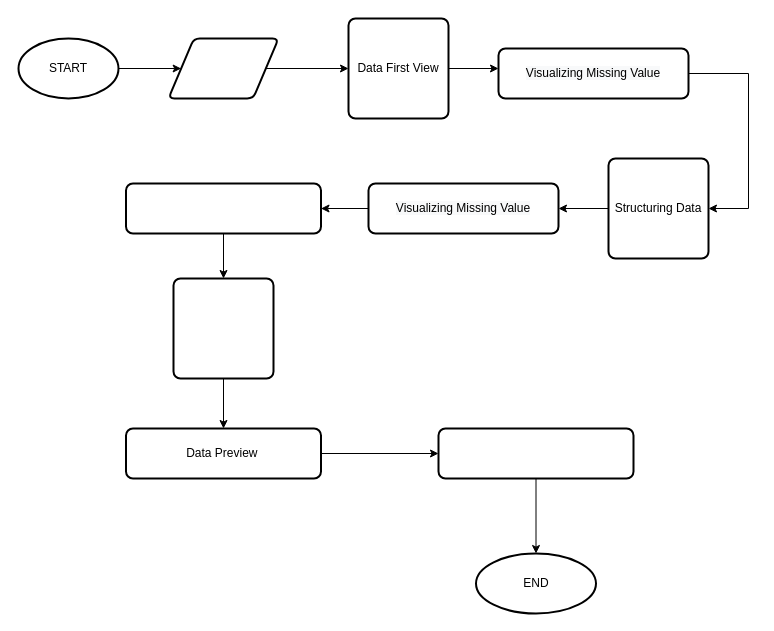
Some shapes in this 774 by 631 pixel diagram are drawn without their labels. Here are the shapes that lost their labels. From the top down, the box of each, then its label:
(167, 37, 279, 99): Import Data
(124, 182, 322, 234): dropping missing value
(172, 277, 274, 379): Transform/ Preprocess Data
(437, 427, 634, 479): Data Description
